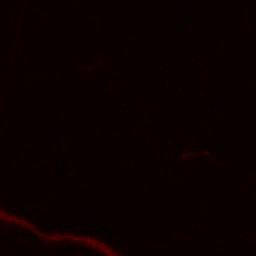debris: (1, 207, 27, 229), (87, 235, 115, 255), (29, 226, 56, 242), (181, 147, 212, 159), (56, 233, 88, 244)
